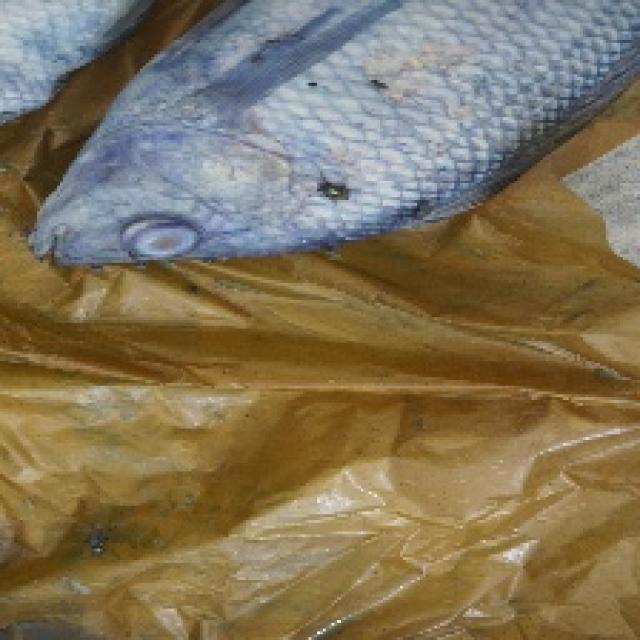Non-Fresh: (98, 203, 232, 280)
